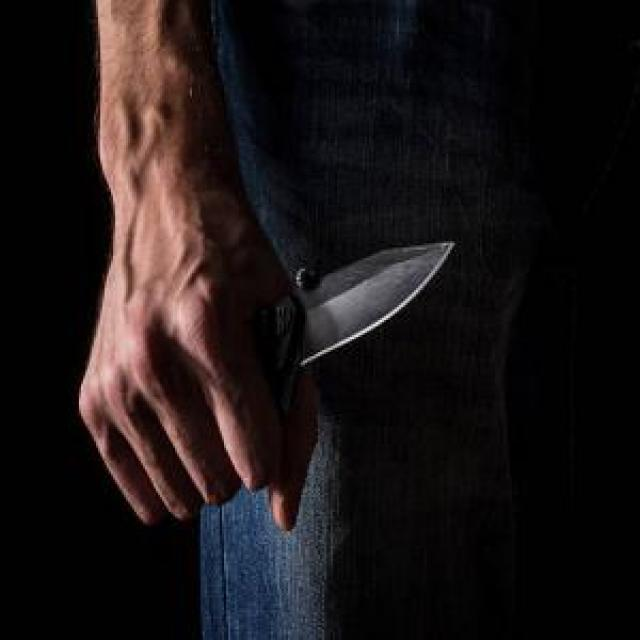knife: (122, 235, 456, 436)
